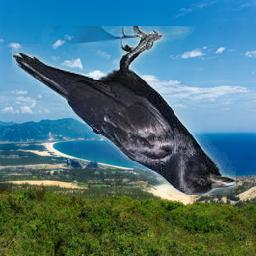Crow: (12, 27, 236, 196)
